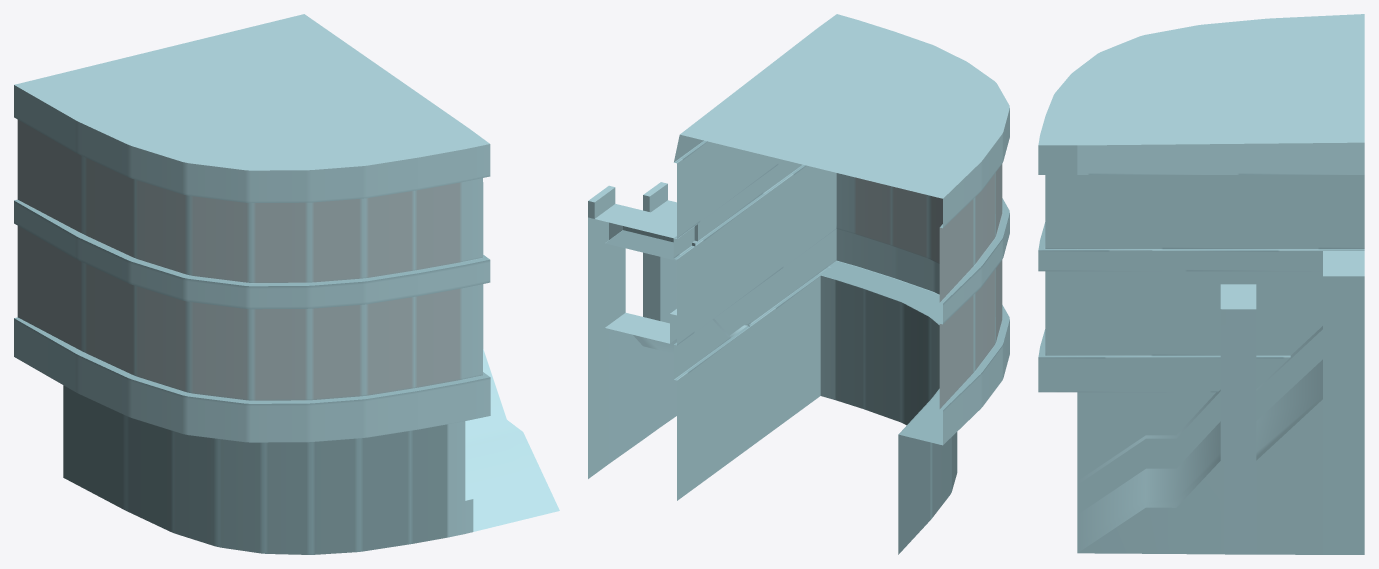
File: Boss_C.fbx
3 views of the same model, side by side, from view 1: azimuth 30°, elevation 25°; view 2: azimuth 150°, elevation 25°; view 3: azimuth 270°, elevation 25° (orthographic). The views are drawn at different scales.
Parts seen in each view (by area): view 1: Boss_C_m; view 2: Boss_C_m; view 3: Boss_C_m.
Part boxes in pixels (x1=…): Boss_C_m: x1=14, y1=14, x2=559, y2=554; Boss_C_m: x1=588, y1=14, x2=1009, y2=554; Boss_C_m: x1=1038, y1=14, x2=1364, y2=554.
Bounding box in the file's own units: 1291 × 1276 × 1027.
